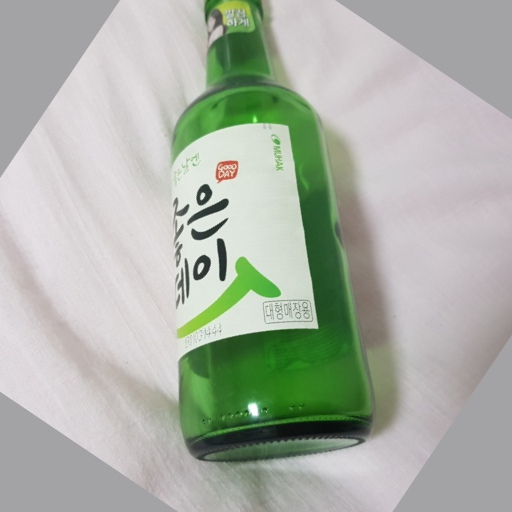Glass_0: (167, 2, 378, 463)
